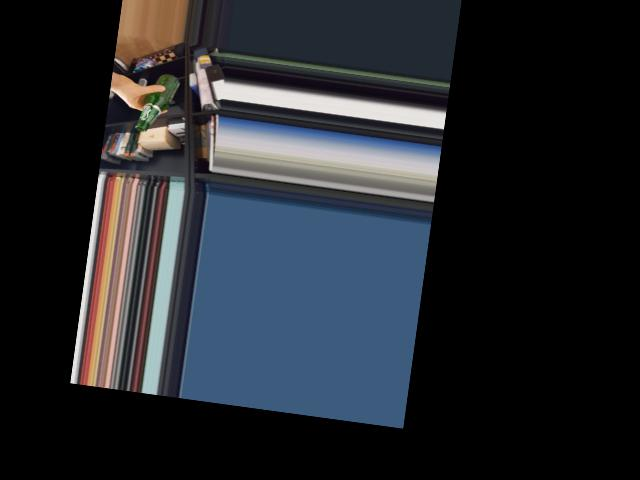beer: (135, 70, 181, 135)
